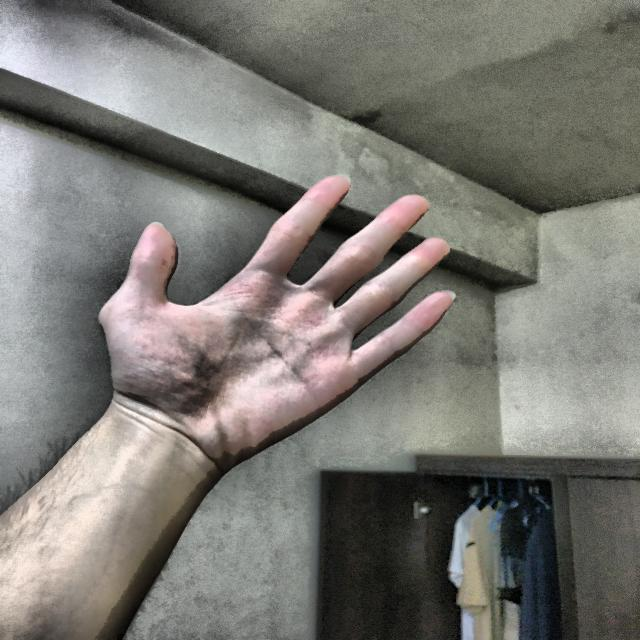not-gloved: (79, 161, 468, 491)
